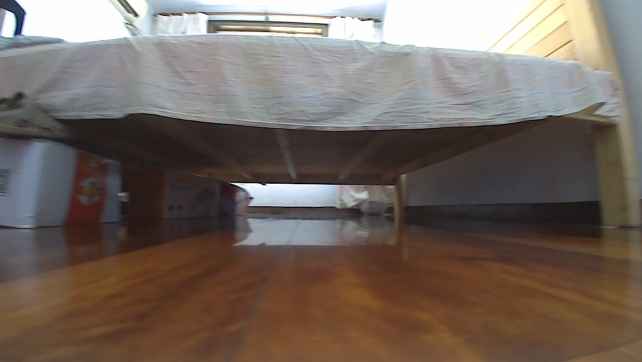bed1: (2, 0, 641, 232)
